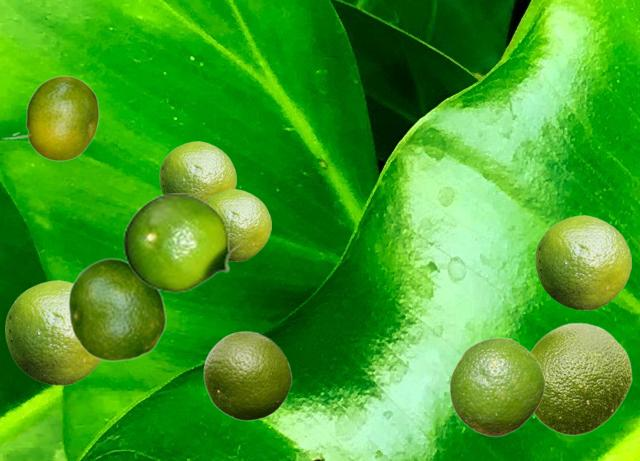calamansi: (122, 193, 241, 292), (530, 322, 631, 435), (67, 257, 166, 361), (5, 280, 101, 384), (449, 337, 544, 436), (535, 215, 630, 309), (1, 75, 98, 160), (203, 330, 291, 420), (159, 141, 235, 200), (207, 189, 270, 260)
